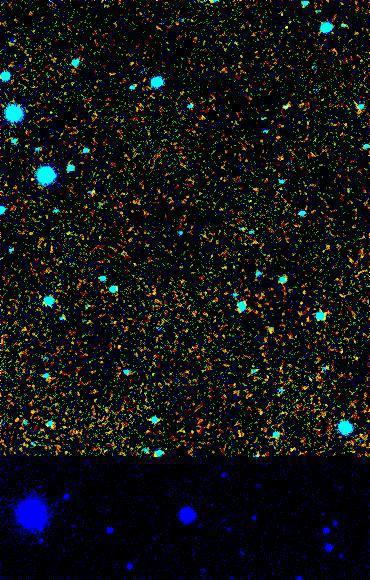star: (15, 168, 45, 198)
